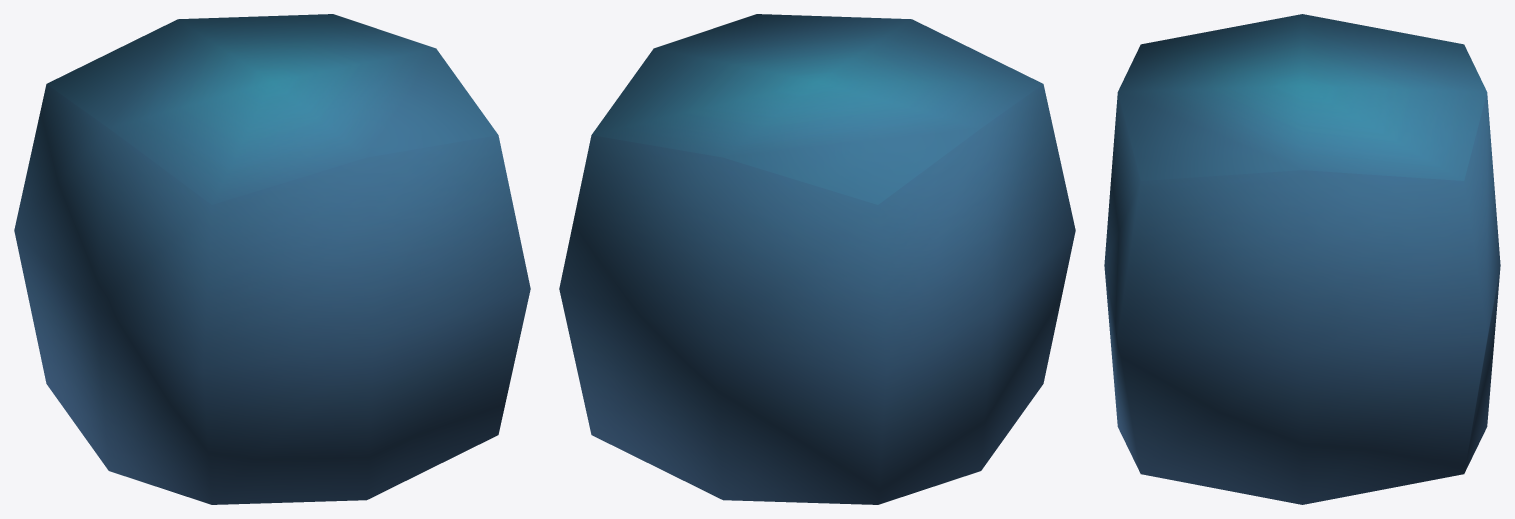
File: ball_small_blue.fbx
The picture shows the model from 3 angles, left to right: view 1: azimuth 30°, elevation 25°; view 2: azimuth 150°, elevation 25°; view 3: azimuth 270°, elevation 25°; orthographic projection. The views are drawn at different scales.
Parts seen in each view (by area): view 1: ball_small_blue; view 2: ball_small_blue; view 3: ball_small_blue.
Part boxes in pixels (bbox=[...]): ball_small_blue: bbox=[14, 14, 530, 504]; ball_small_blue: bbox=[559, 14, 1075, 504]; ball_small_blue: bbox=[1104, 14, 1500, 504].
Size of the model in its own units: 24.5 by 23.26 by 24.5.
1 material, 1 textured.
